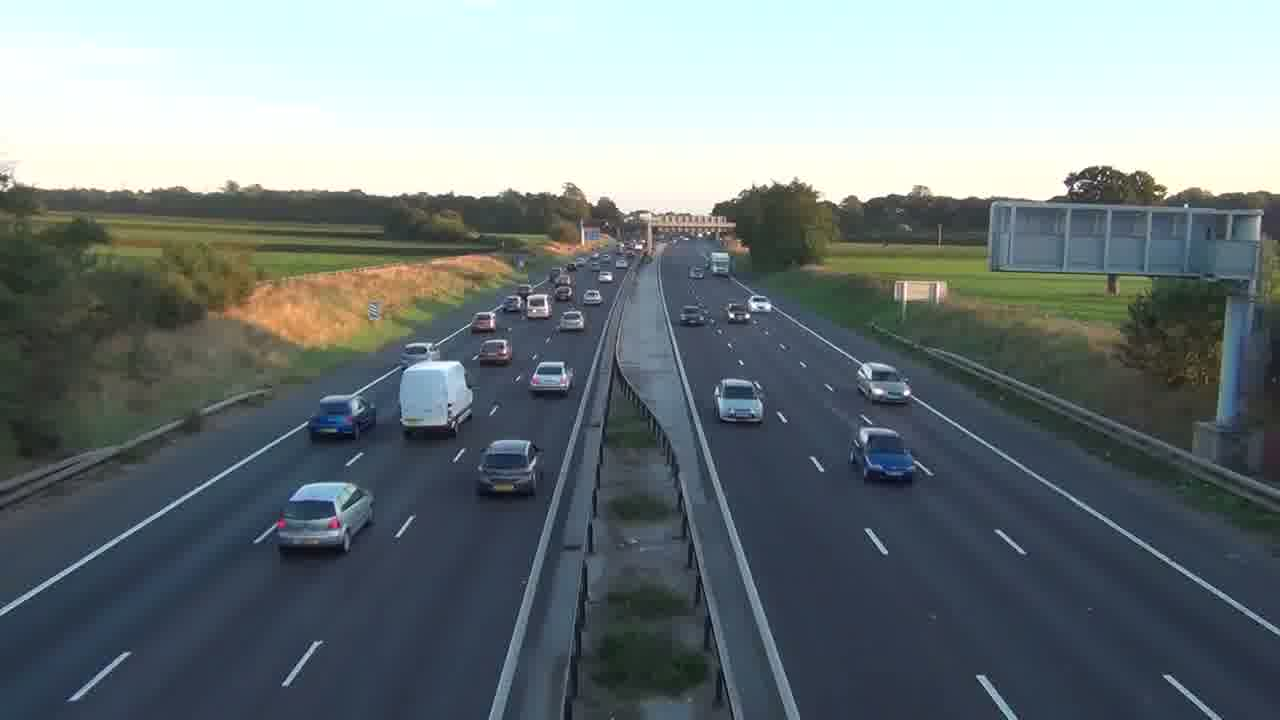car: (275, 480, 374, 553), (475, 437, 544, 497), (853, 426, 915, 483), (310, 393, 376, 440), (855, 361, 912, 406), (713, 377, 765, 424), (528, 360, 575, 397), (478, 337, 513, 366), (559, 307, 586, 332)
truck: (399, 360, 473, 438)
